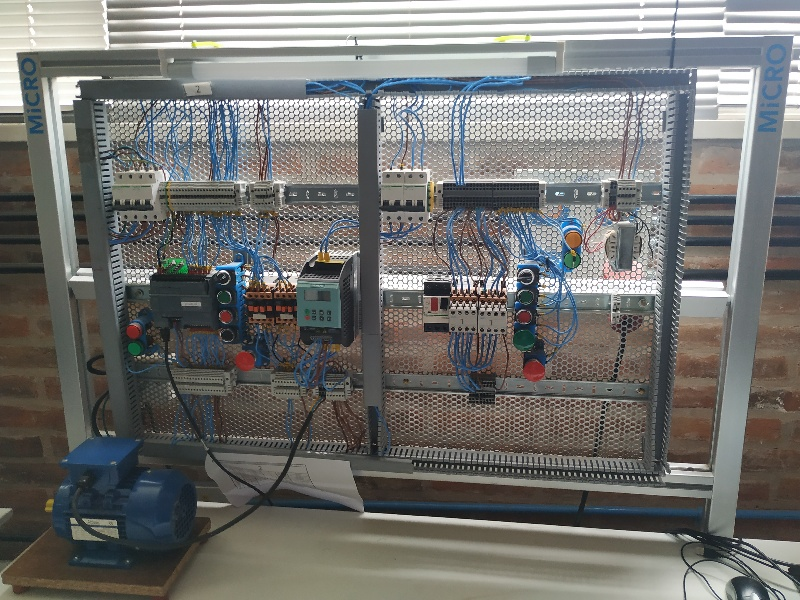Tablero 2: (87, 88, 670, 475)
